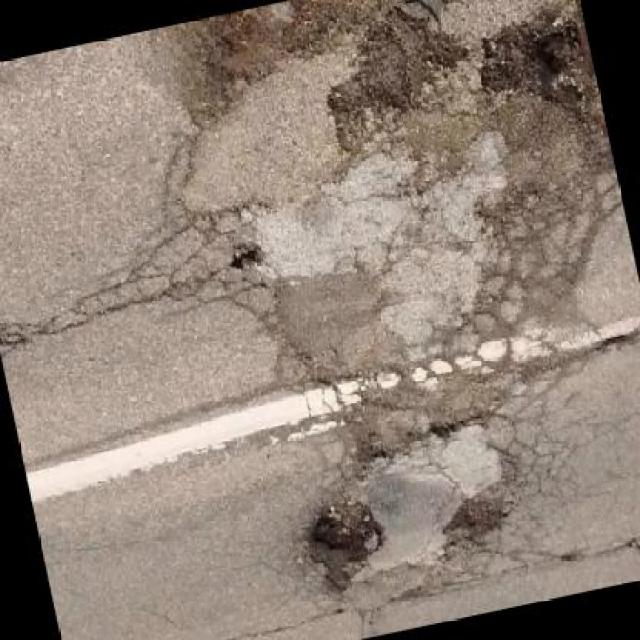pothole1: (307, 0, 460, 132), (464, 11, 596, 128), (298, 491, 393, 591), (436, 484, 512, 550), (222, 238, 266, 278)
